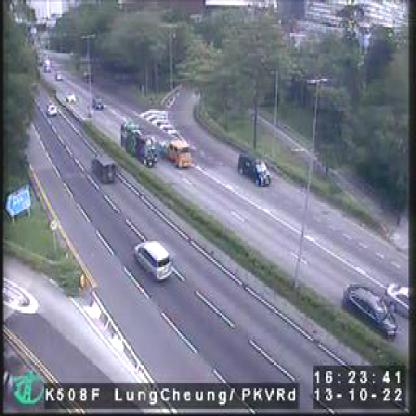Car: (343, 279, 398, 338), (134, 238, 174, 280), (235, 152, 274, 190), (166, 138, 194, 169), (92, 151, 118, 182), (92, 94, 106, 111), (47, 101, 60, 116), (66, 91, 78, 103)
Truck: (121, 119, 160, 168)
